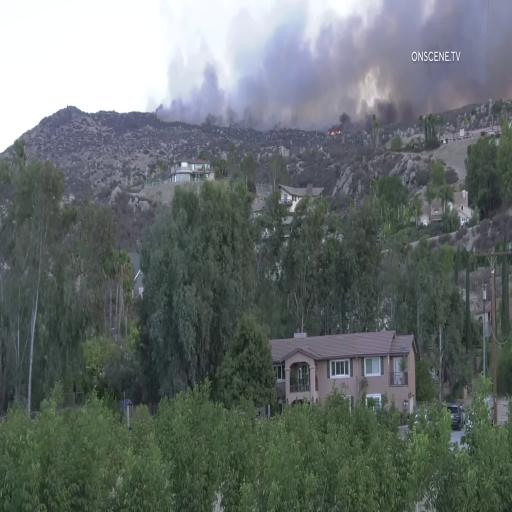smoke: (162, 0, 398, 115)
